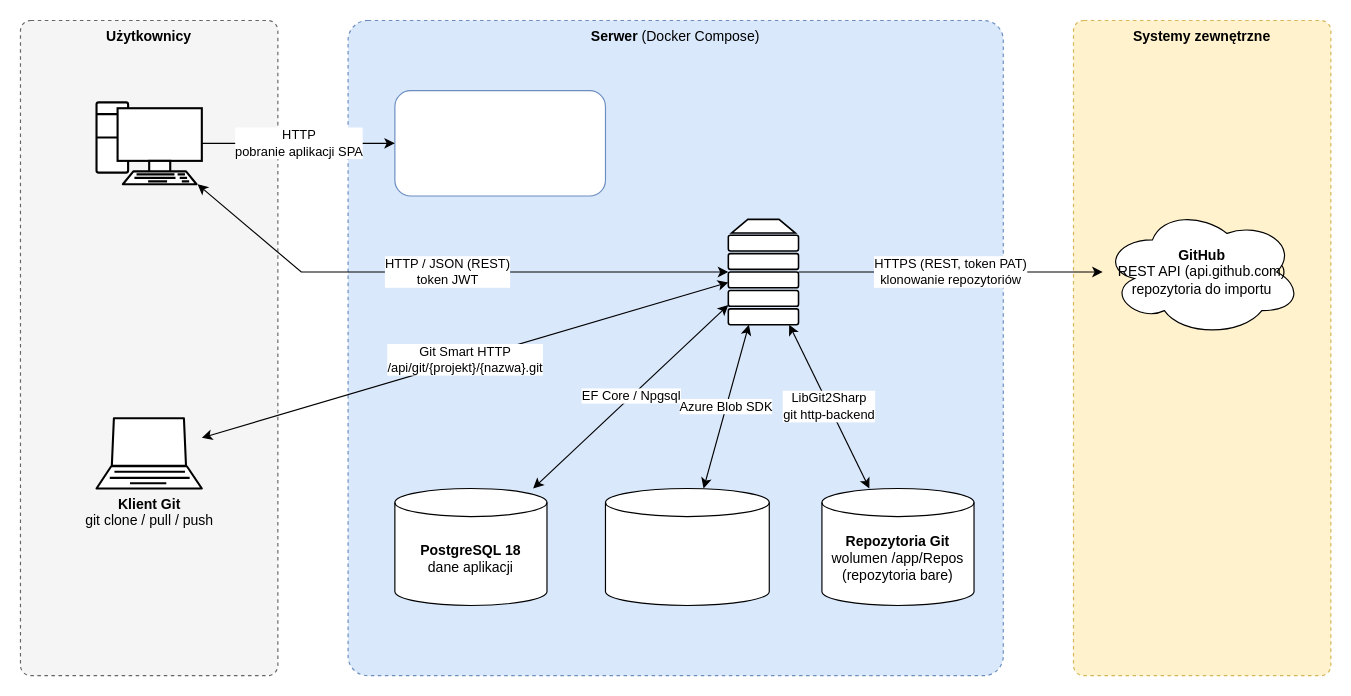
Image size: 1351x696. Some labels were removed from this diagram. The box of each missing label's shape, as (x1, y1, x2, y2) in pixels:
Azurite emulator Azure Blob Storage załączniki: (604, 487, 769, 605)
Komputer użytkownika przeglądarka internetowa: (95, 101, 202, 184)
ProjectCowork.Api ASP.NET Core (.NET 10) REST API + serwer Git HTTP port 8080: (727, 218, 799, 325)
ProjectCowork.App React + TypeScript serwowane przez nginx port 3000: (394, 90, 605, 196)
